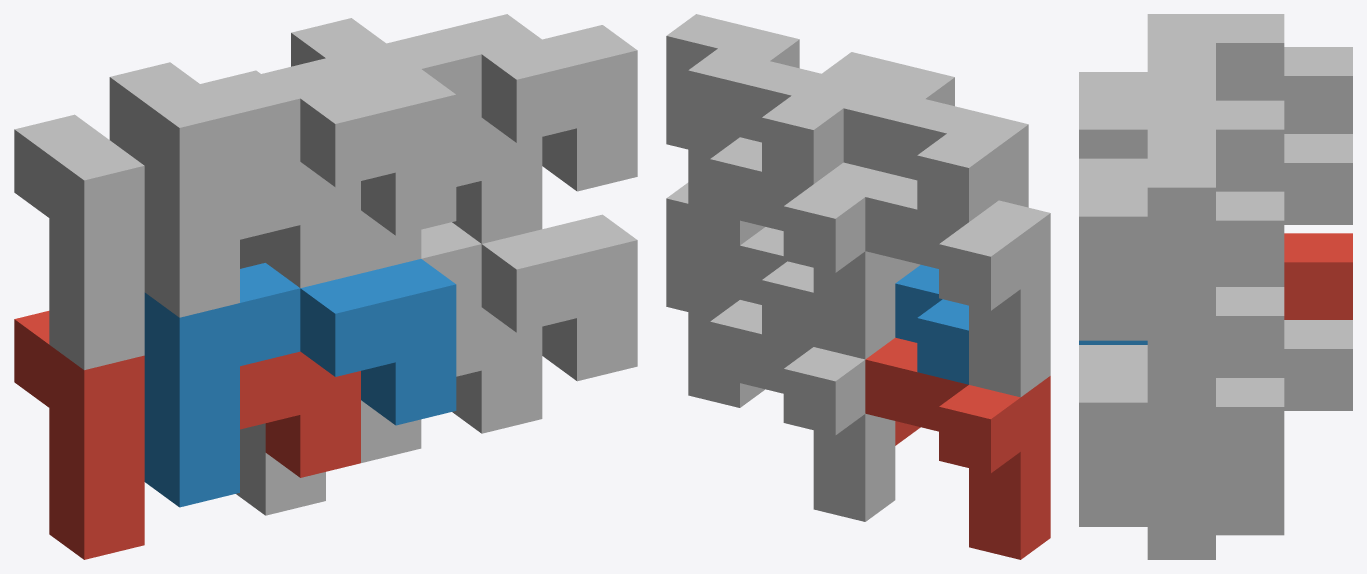
File: tiling.obj
3 renders of one model, left to right at view 1: azimuth 30°, elevation 25°; view 2: azimuth 150°, elevation 25°; view 3: azimuth 270°, elevation 25°, orthographic. The views are drawn at different scales.
Parts seen in each view (by area): view 1: copy_1_domain_4, copy_1_domain_2, copy_1_domain_3, copy_1_domain_8, copy_1_domain_1, copy_1_domain_6, copy_1_domain_5, copy_1_domain_7; view 2: copy_1_domain_7, copy_1_domain_5, copy_1_domain_3, copy_1_domain_1, copy_1_domain_8, copy_1_domain_4, copy_1_domain_6, copy_1_domain_2; view 3: copy_1_domain_8, copy_1_domain_5, copy_1_domain_6, copy_1_domain_7, copy_1_domain_4, copy_1_domain_1, copy_1_domain_3.
Boxes of the visible parts, bbox=[...] form: copy_1_domain_4: bbox=[109, 58, 456, 317]; copy_1_domain_2: bbox=[144, 259, 456, 507]; copy_1_domain_3: bbox=[14, 114, 360, 370]; copy_1_domain_8: bbox=[291, 14, 637, 273]; copy_1_domain_1: bbox=[14, 311, 360, 559]; copy_1_domain_6: bbox=[361, 214, 637, 462]; copy_1_domain_5: bbox=[236, 307, 542, 515]; copy_1_domain_7: bbox=[200, 70, 542, 268]; copy_1_domain_7: bbox=[688, 124, 895, 359]; copy_1_domain_5: bbox=[688, 287, 895, 521]; copy_1_domain_3: bbox=[865, 175, 1050, 397]; copy_1_domain_1: bbox=[865, 337, 1050, 559]; copy_1_domain_8: bbox=[666, 14, 872, 184]; copy_1_domain_4: bbox=[822, 52, 1028, 221]; copy_1_domain_6: bbox=[666, 182, 813, 346]; copy_1_domain_2: bbox=[895, 265, 968, 384]; copy_1_domain_8: bbox=[1079, 100, 1284, 340]; copy_1_domain_5: bbox=[1147, 320, 1352, 559]; copy_1_domain_6: bbox=[1079, 287, 1284, 526]; copy_1_domain_7: bbox=[1147, 134, 1352, 373]; copy_1_domain_4: bbox=[1079, 14, 1284, 158]; copy_1_domain_1: bbox=[1284, 233, 1352, 319]; copy_1_domain_3: bbox=[1284, 47, 1352, 133].
Bounding box in the file's own units: 8 × 7 × 4.
